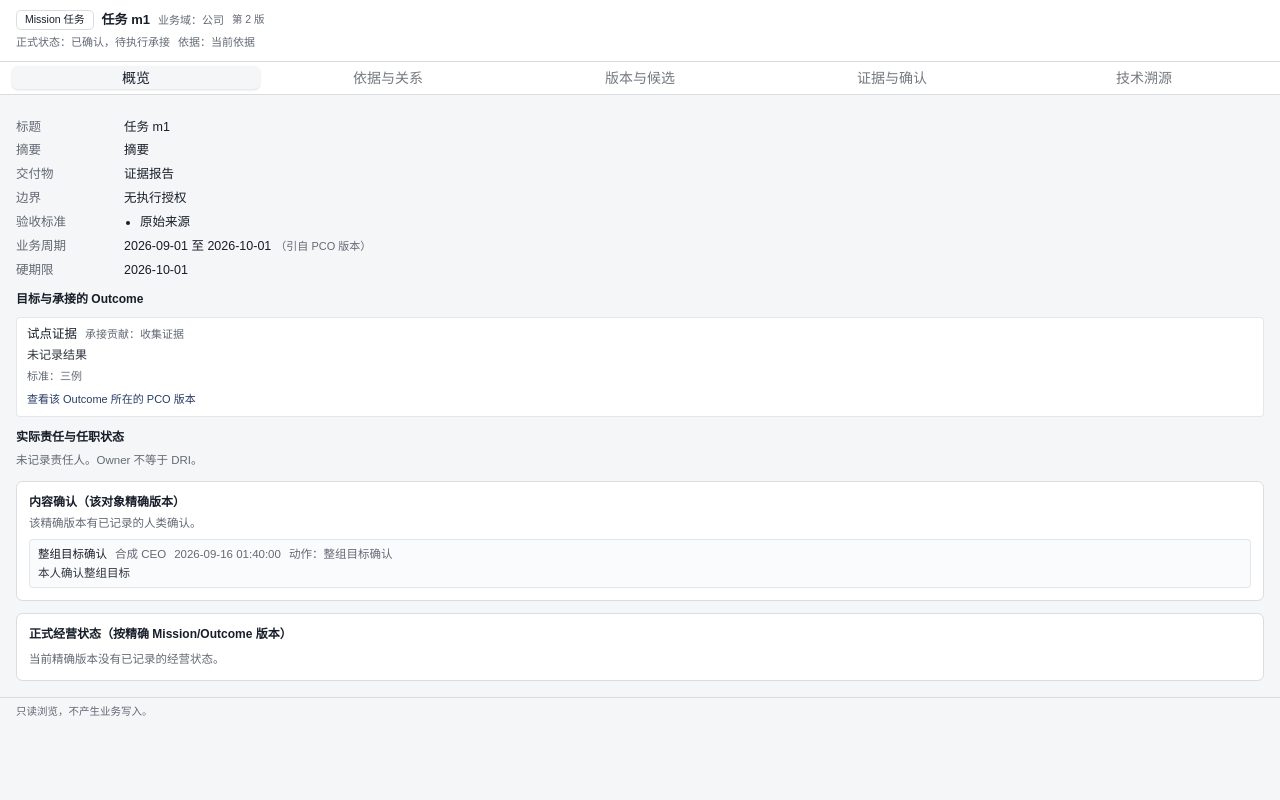
Test: browser readability fixes › shows the confirming person, reason and business action, and opens the receipt
The image size is (1280, 800).
Click the tab "证据与确认" at (892, 78), box [768,66,1016,89]
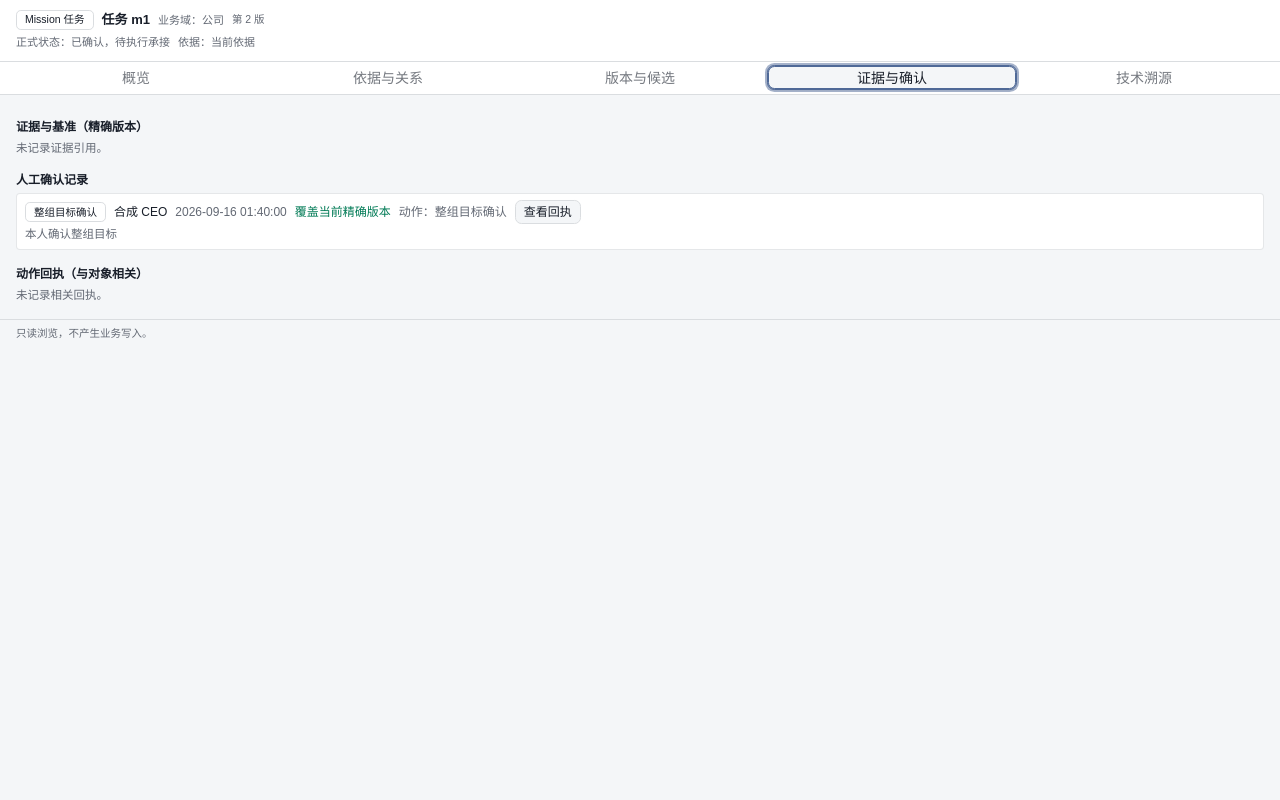
Expected: the text "本人确认整组目标" is shown, [25,228,117,240]
Expected: the text "合成 CEO" is shown, [114,204,167,221]
Click the button "查看回执" at (548, 212), box [515,200,581,224]
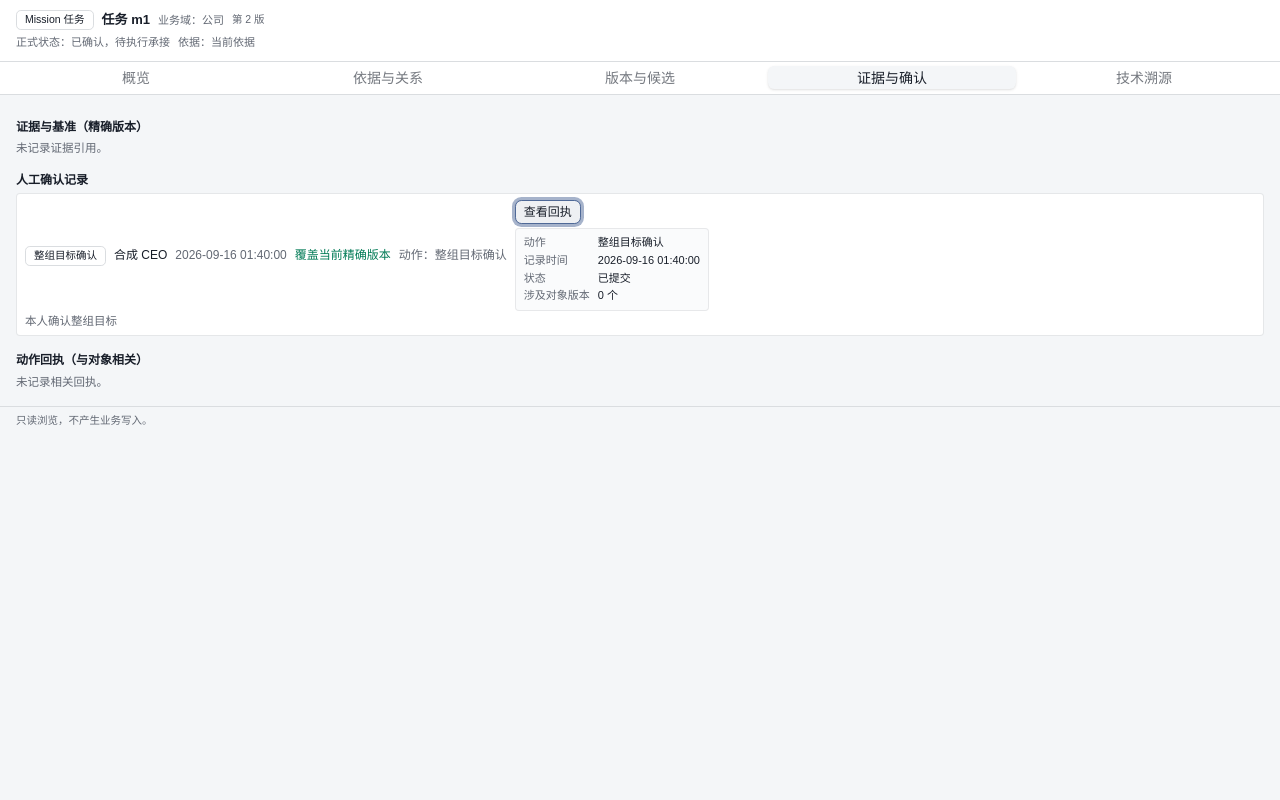
Expected: the 2nd text "整组目标确认" is shown, [25,246,106,266]
Expected: the text "已提交" is shown, [598,272,631,284]
